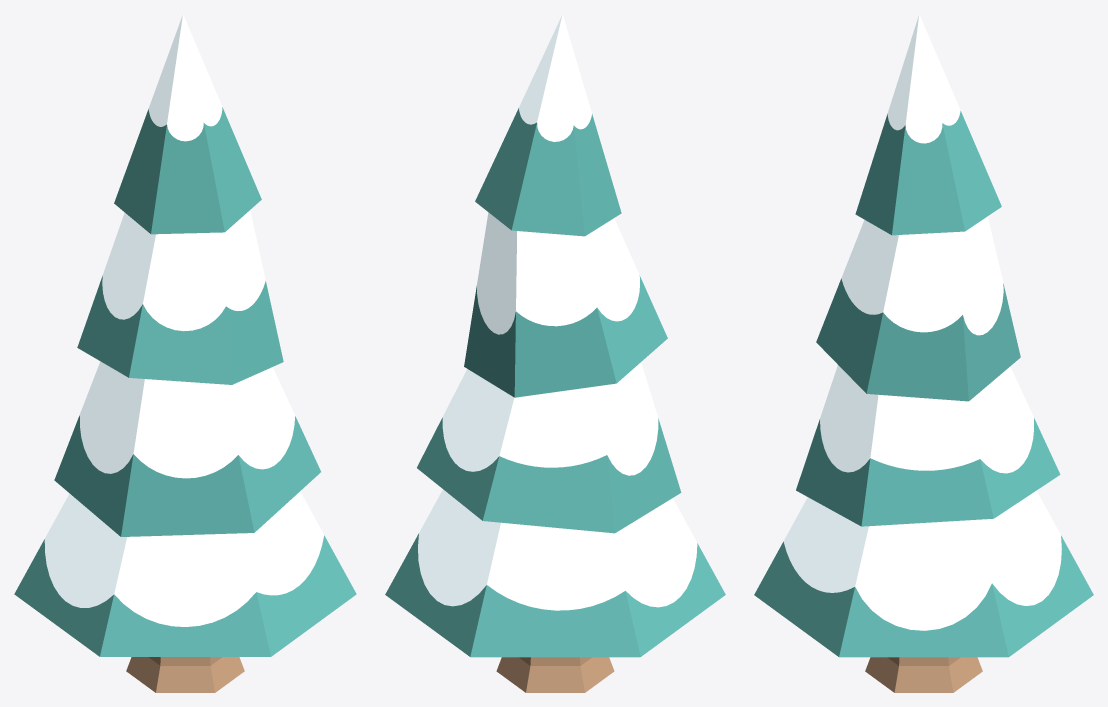
File: treePineSnowRound.glb
The picture shows the model from 3 angles, left to right: view 1: azimuth 30°, elevation 25°; view 2: azimuth 150°, elevation 25°; view 3: azimuth 270°, elevation 25°; orthographic projection.
Visible parts, largest first — view 1: Mesh_treePineSnowRound_1, Mesh_treePineSnowRound, Mesh_treePineSnowRound_2; view 2: Mesh_treePineSnowRound_1, Mesh_treePineSnowRound, Mesh_treePineSnowRound_2; view 3: Mesh_treePineSnowRound_1, Mesh_treePineSnowRound, Mesh_treePineSnowRound_2.
Boxes of the visible parts, <box> form: Mesh_treePineSnowRound_1: <box>44,14,324,626</box>; Mesh_treePineSnowRound: <box>14,107,356,656</box>; Mesh_treePineSnowRound_2: <box>126,657,244,692</box>; Mesh_treePineSnowRound_1: <box>418,14,697,610</box>; Mesh_treePineSnowRound: <box>385,108,725,657</box>; Mesh_treePineSnowRound_2: <box>496,657,614,692</box>; Mesh_treePineSnowRound_1: <box>783,14,1061,630</box>; Mesh_treePineSnowRound: <box>754,111,1093,657</box>; Mesh_treePineSnowRound_2: <box>865,657,982,692</box>.
Size of what is drawn, in the model's own units: 0.651 by 1.6 by 0.7517.
